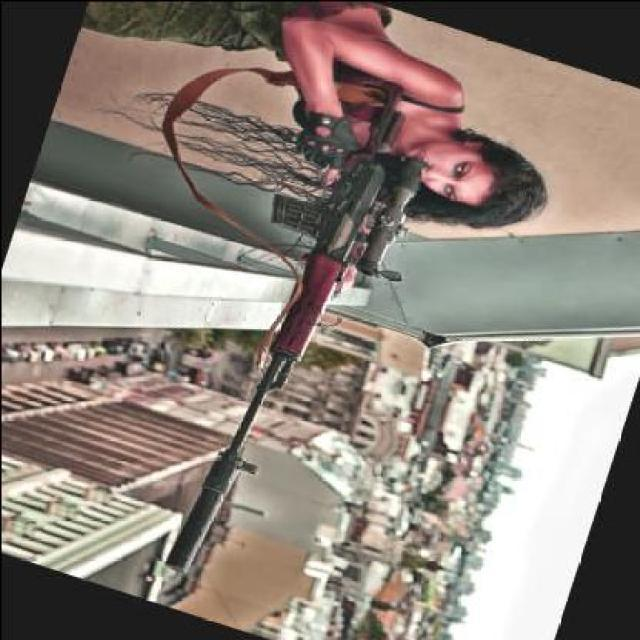Rifle: (140, 67, 426, 605)
